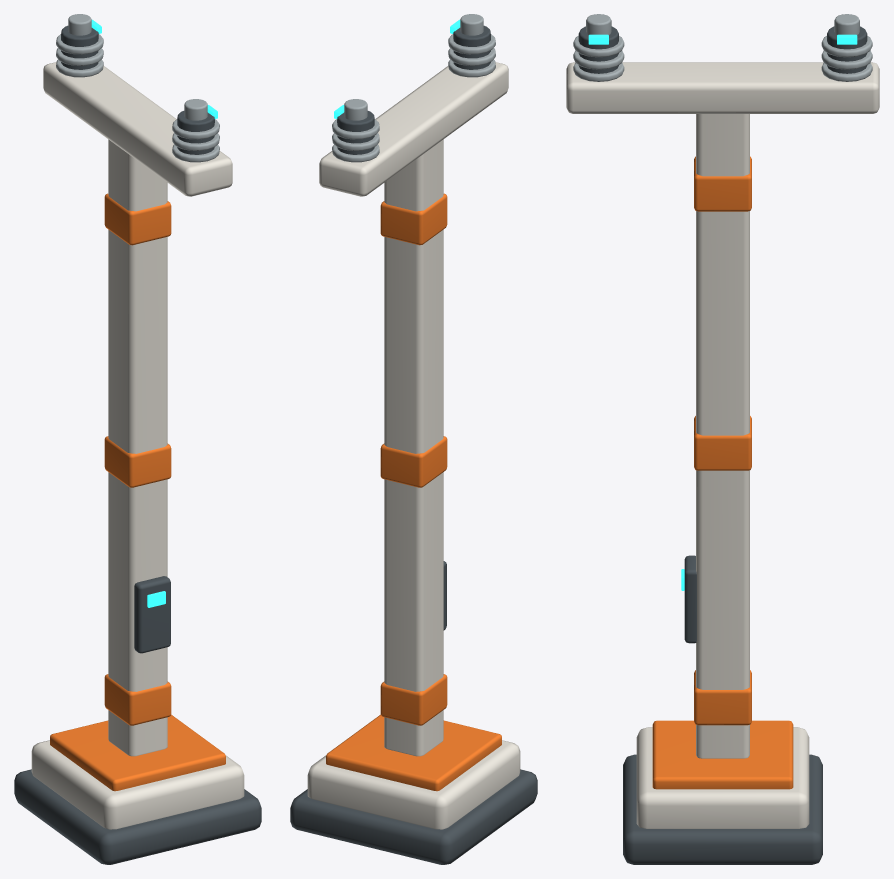
The model's file is SM_PowerPole.fbx.
3 renders of one model, left to right at view 1: azimuth 30°, elevation 25°; view 2: azimuth 150°, elevation 25°; view 3: azimuth 270°, elevation 25°, orthographic. The views are drawn at different scales.
Visible parts, largest first — view 1: SM_PowerPole; view 2: SM_PowerPole; view 3: SM_PowerPole.
Part boxes in pixels (<box>): SM_PowerPole: <box>14,14,261,864</box>; SM_PowerPole: <box>290,14,537,864</box>; SM_PowerPole: <box>566,14,879,864</box>.
Bounding box in the file's own units: 74 × 116 × 331.
